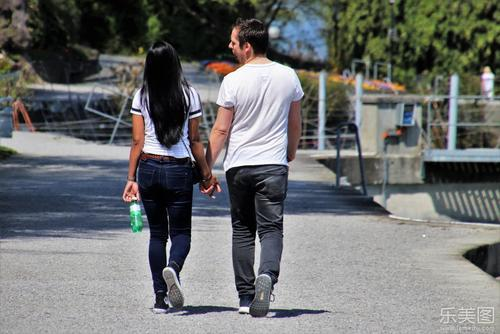up: (200, 18, 304, 321), (119, 38, 222, 317)
